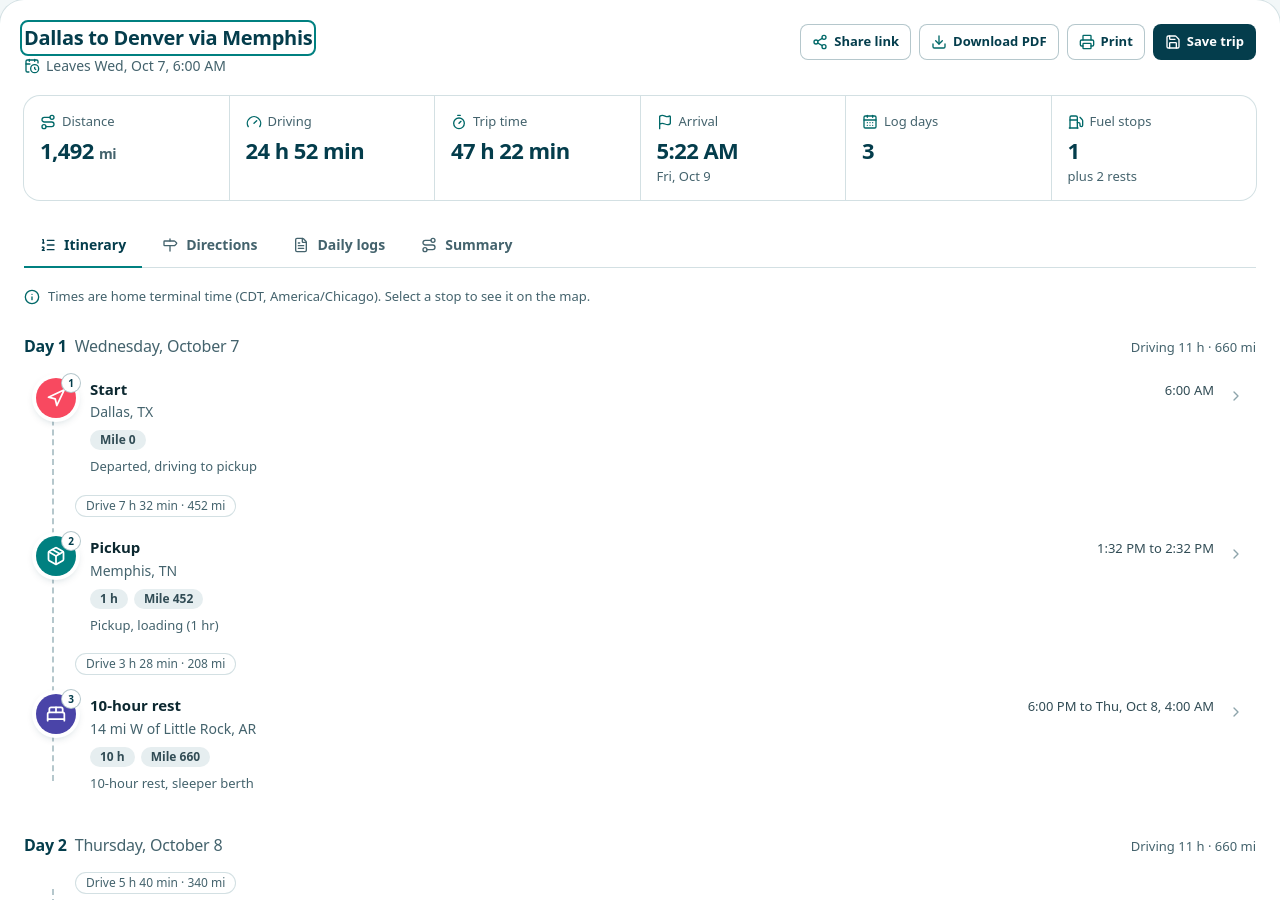
Test case: summary tab › lists each leg with distance, OSRM time and planner time, and totals them
What coordinates should you click on to do the following:
click the tab with test id "tab-summary"
I would click on:
 (467, 246)
Its box is x1=405 y1=224 x2=528 y2=268.
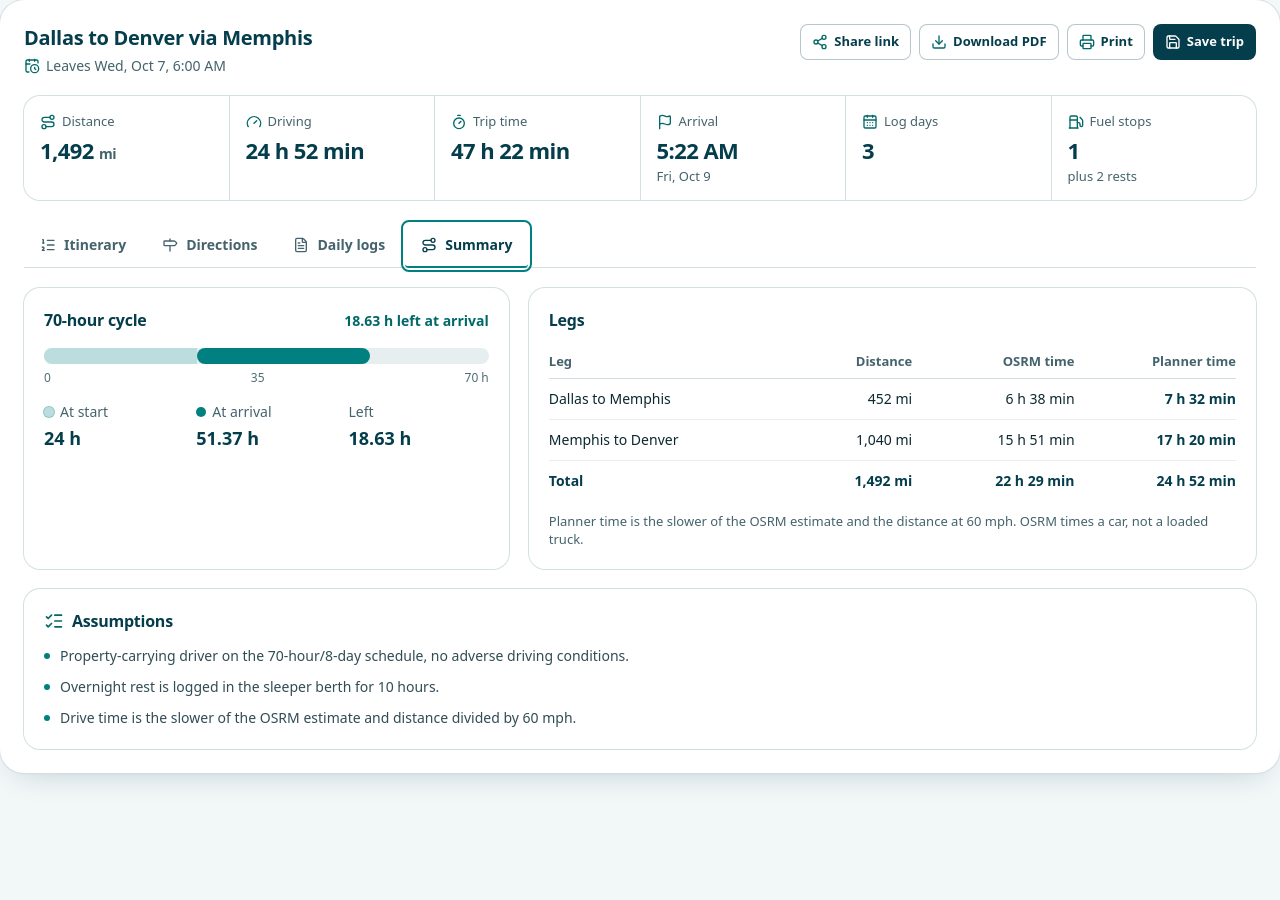
Expected: the text "6 h 38 min" is shown, x1=924 y1=379 x2=1086 y2=420
Expected: the text "1,040 mi" is shown, x1=800 y1=420 x2=924 y2=461
Expected: the text "15 h 51 min" is shown, x1=924 y1=420 x2=1086 y2=461
